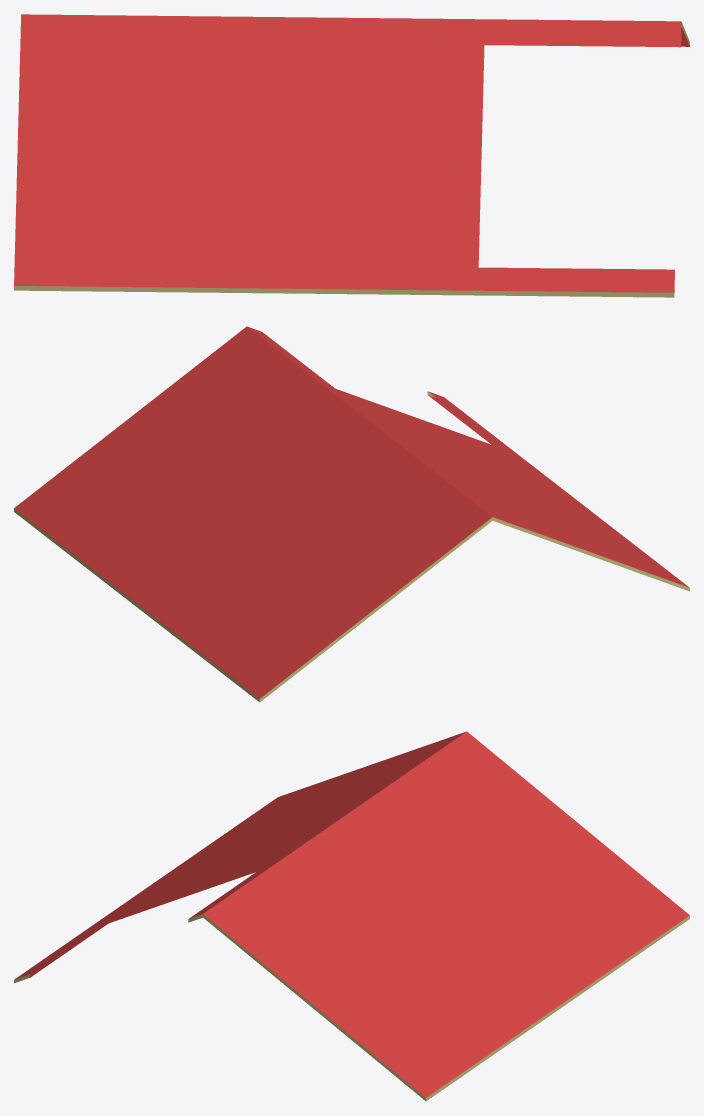
3 views of the same model, one above another, from view 1: azimuth 30°, elevation 25°; view 2: azimuth 150°, elevation 25°; view 3: azimuth 270°, elevation 25° (orthographic). The views are drawn at different scales.
Bounding box in the file's own units: 16.99 × 16.79 × 3.56.
